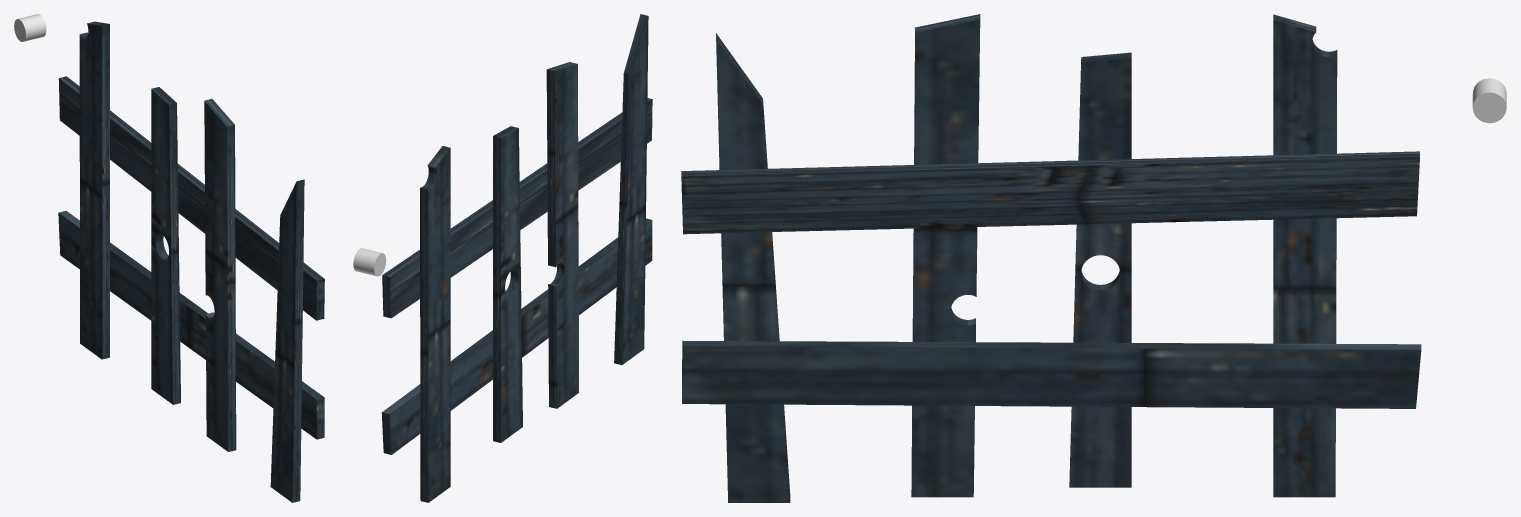
The model's file is FenceHorrorGame.fbx.
3 views of the same model, side by side, from view 1: azimuth 30°, elevation 25°; view 2: azimuth 150°, elevation 25°; view 3: azimuth 270°, elevation 25° (orthographic). The views are drawn at different scales.
Visible parts, largest first — view 1: Cube.005, Cylinder; view 2: Cube.005, Cylinder; view 3: Cube.005, Cylinder.
Part boxes in pixels (box(x1,y1,x2,y2)): Cube.005: box(58, 21, 324, 502); Cylinder: box(14, 14, 46, 41); Cube.005: box(381, 14, 652, 502); Cylinder: box(353, 248, 386, 276); Cube.005: box(681, 14, 1421, 502); Cylinder: box(1472, 78, 1506, 123).
Size of the model in its own units: 41.68 by 602 by 931.
